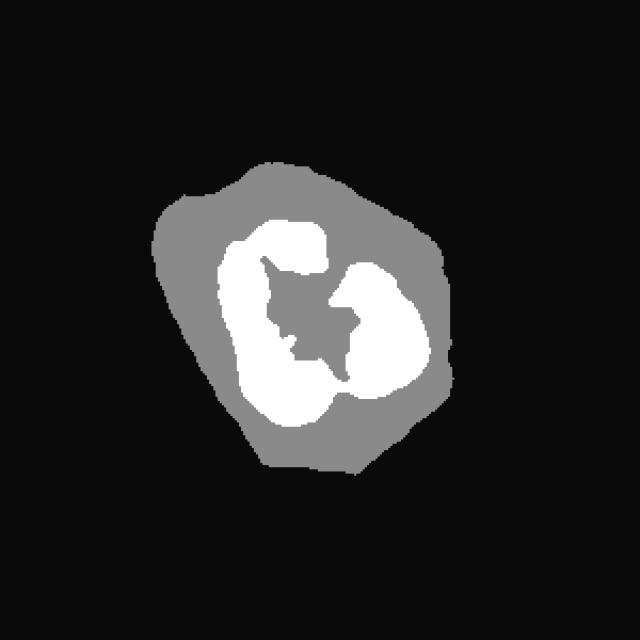WBC: (143, 151, 467, 493)
